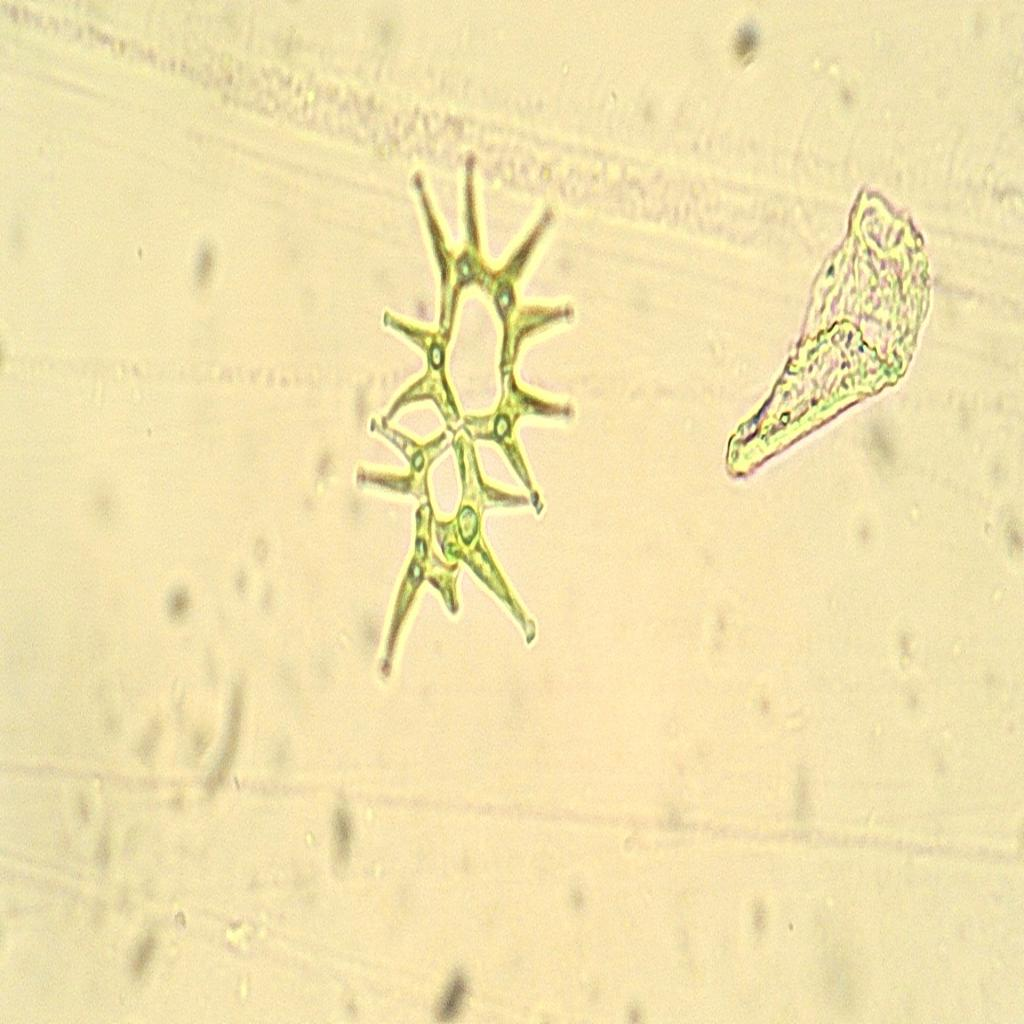Pediastrum_CFI: (349, 120, 576, 697)
